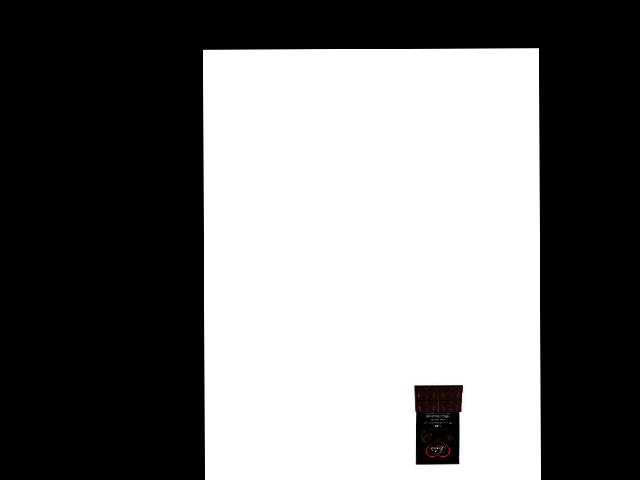chocolate: (412, 382, 466, 465)
